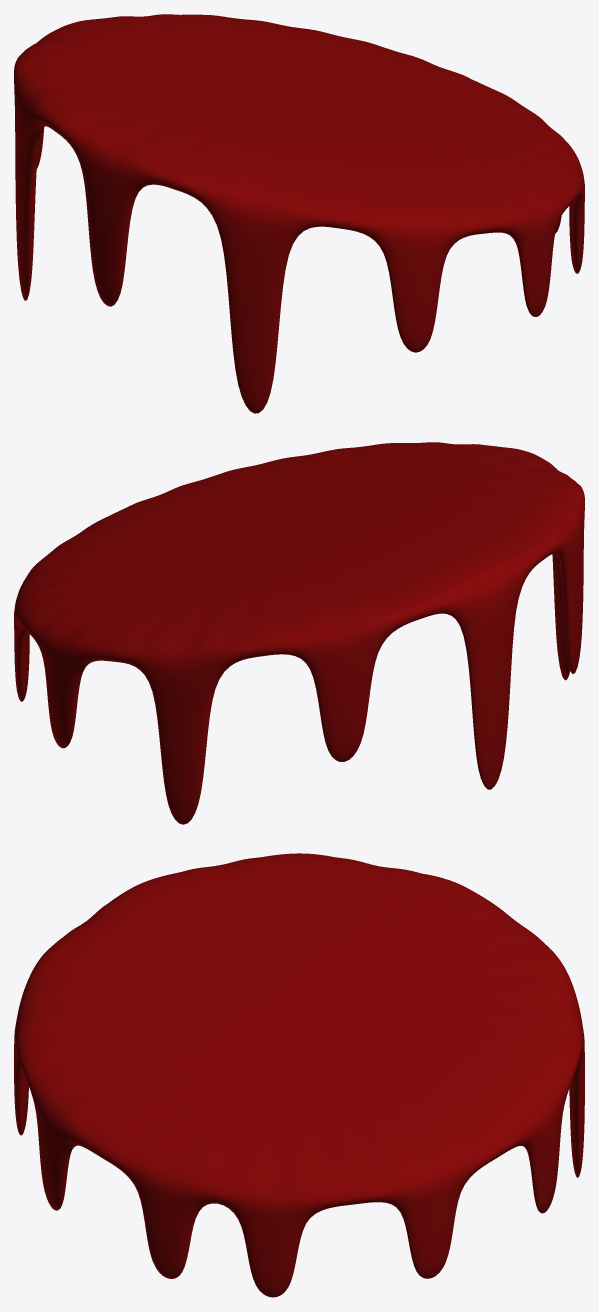
The model's file is Choco3.gltf.
The picture shows the model from 3 angles, top to bottom: view 1: azimuth 30°, elevation 25°; view 2: azimuth 150°, elevation 25°; view 3: azimuth 270°, elevation 25°; orthographic projection. The views are drawn at different scales.
Parts seen in each view (by area): view 1: Object_2; view 2: Object_2; view 3: Object_2.
Boxes of the visible parts, bbox=[...] form: Object_2: bbox=[14, 14, 584, 413]; Object_2: bbox=[14, 442, 584, 824]; Object_2: bbox=[14, 853, 584, 1297].
Size of the model in its own units: 96.5 by 44.44 by 99.39.
